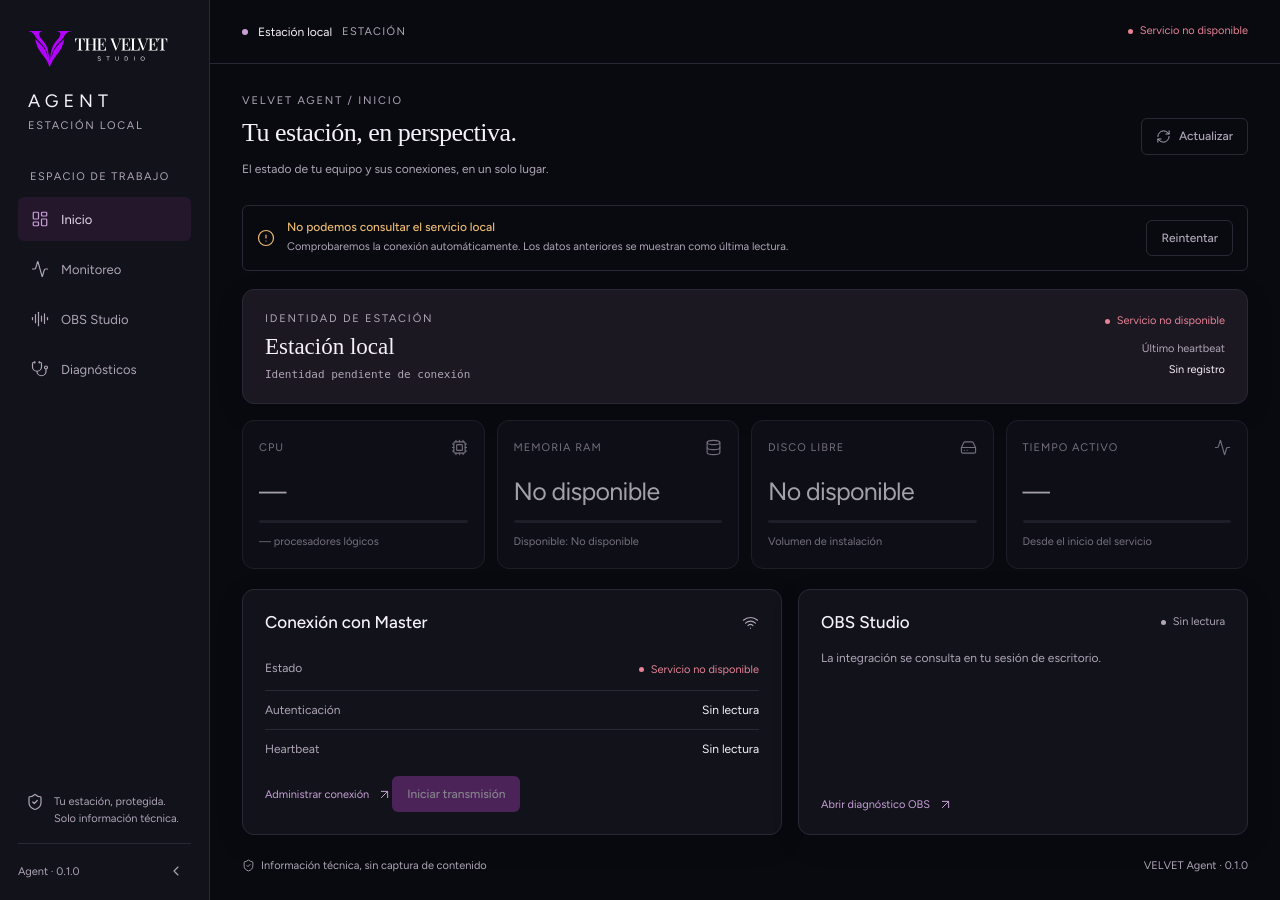
Test case: Interfaz operativa › muestra fallo explícito y recupera la comunicación al reintentar
The width and height of the screenshot is (1280, 900).
Expected: the text "No podemos consultar el servicio local" is shown, [287,220,495,234]
Click the button "Reintentar".
click(1190, 238)  # box [1146,220,1233,256]
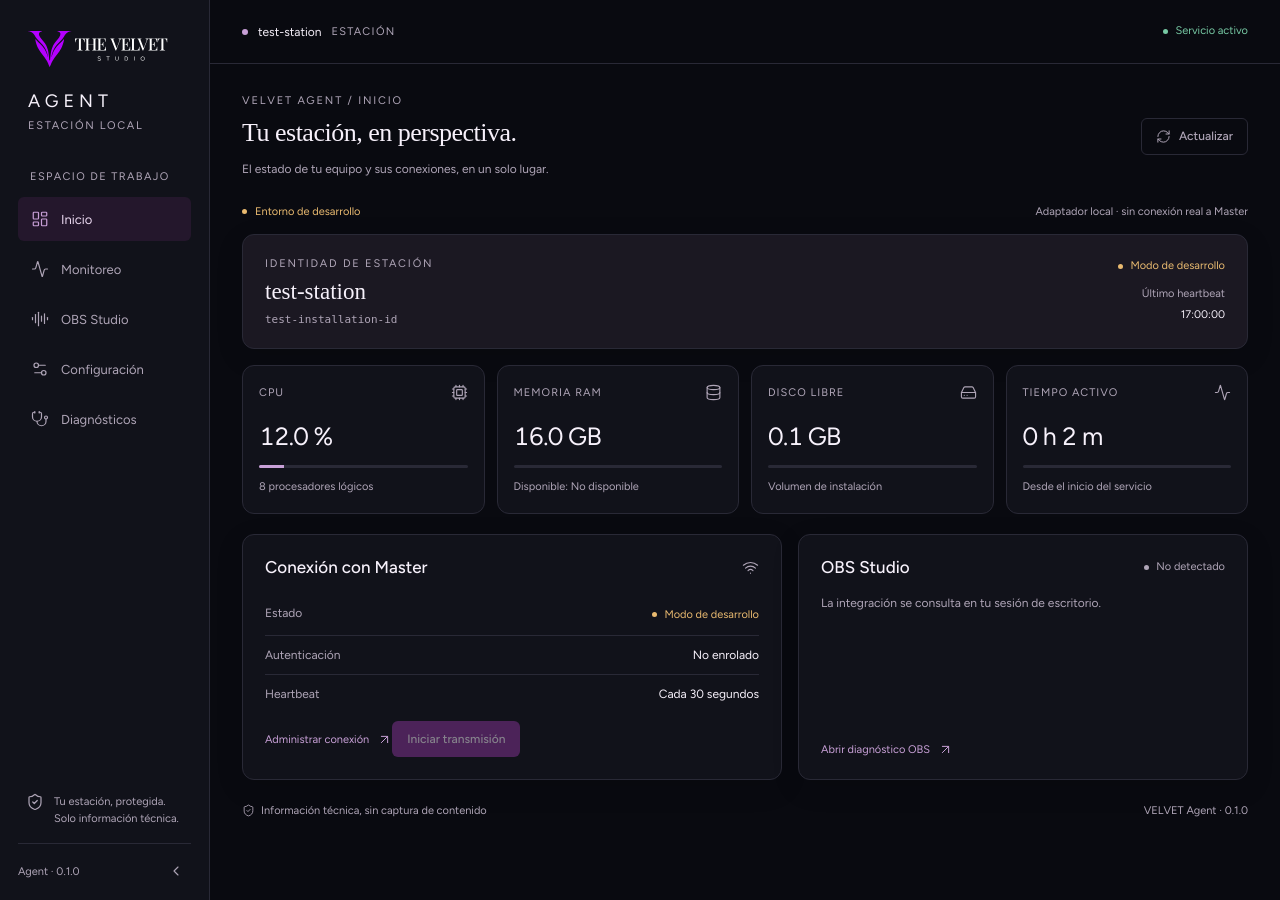
Expected: the text "12.0 %" is shown, [259,421,333,451]
Expected: the text "No podemos consultar el servicio local" is gone
